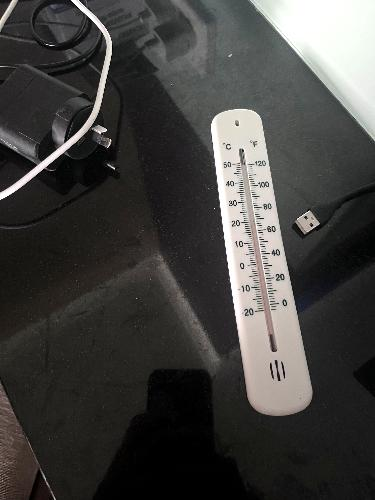thermo: (212, 105, 317, 416)
